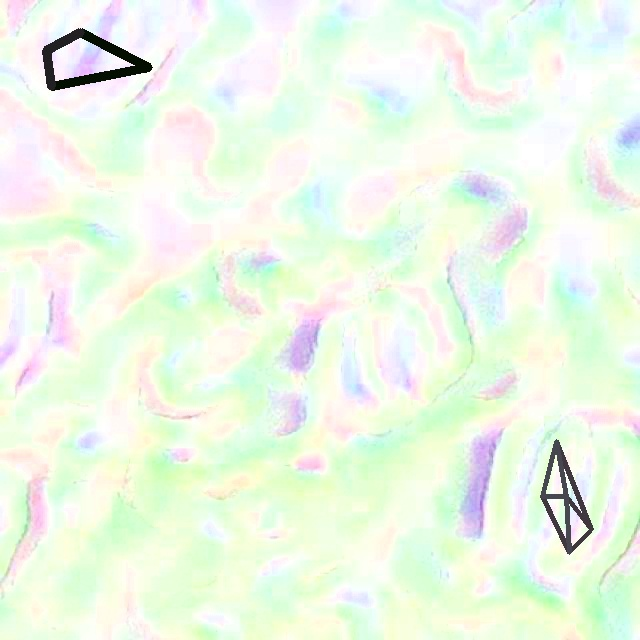close: (540, 439, 593, 554)
open: (43, 28, 151, 90)
